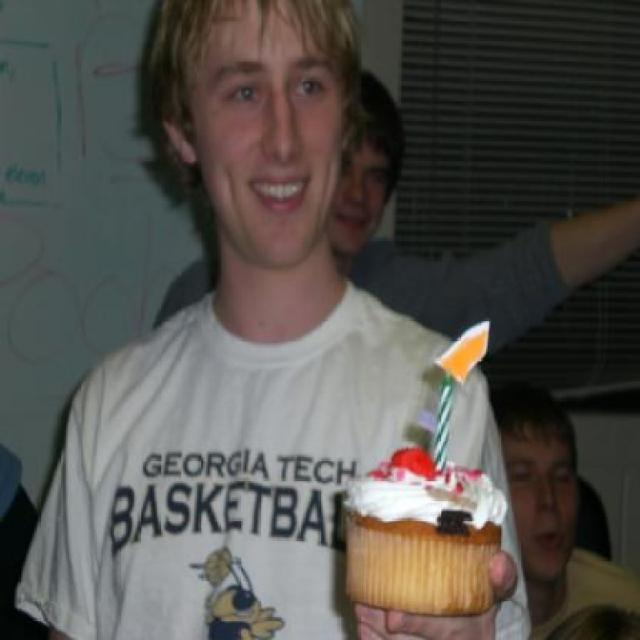Muffin: (336, 444, 510, 613)
